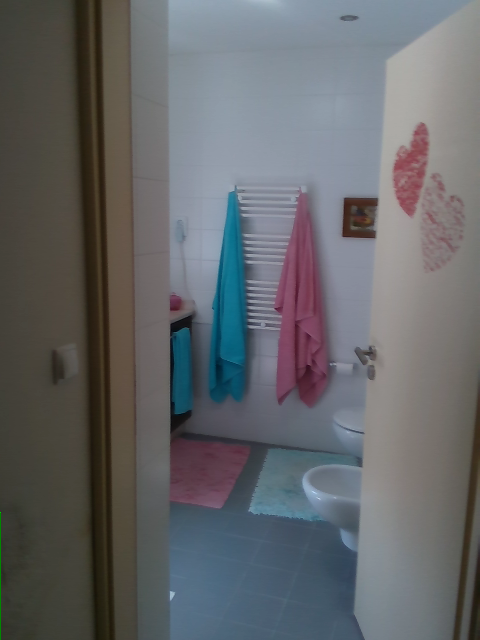open: (355, 0, 479, 639)
